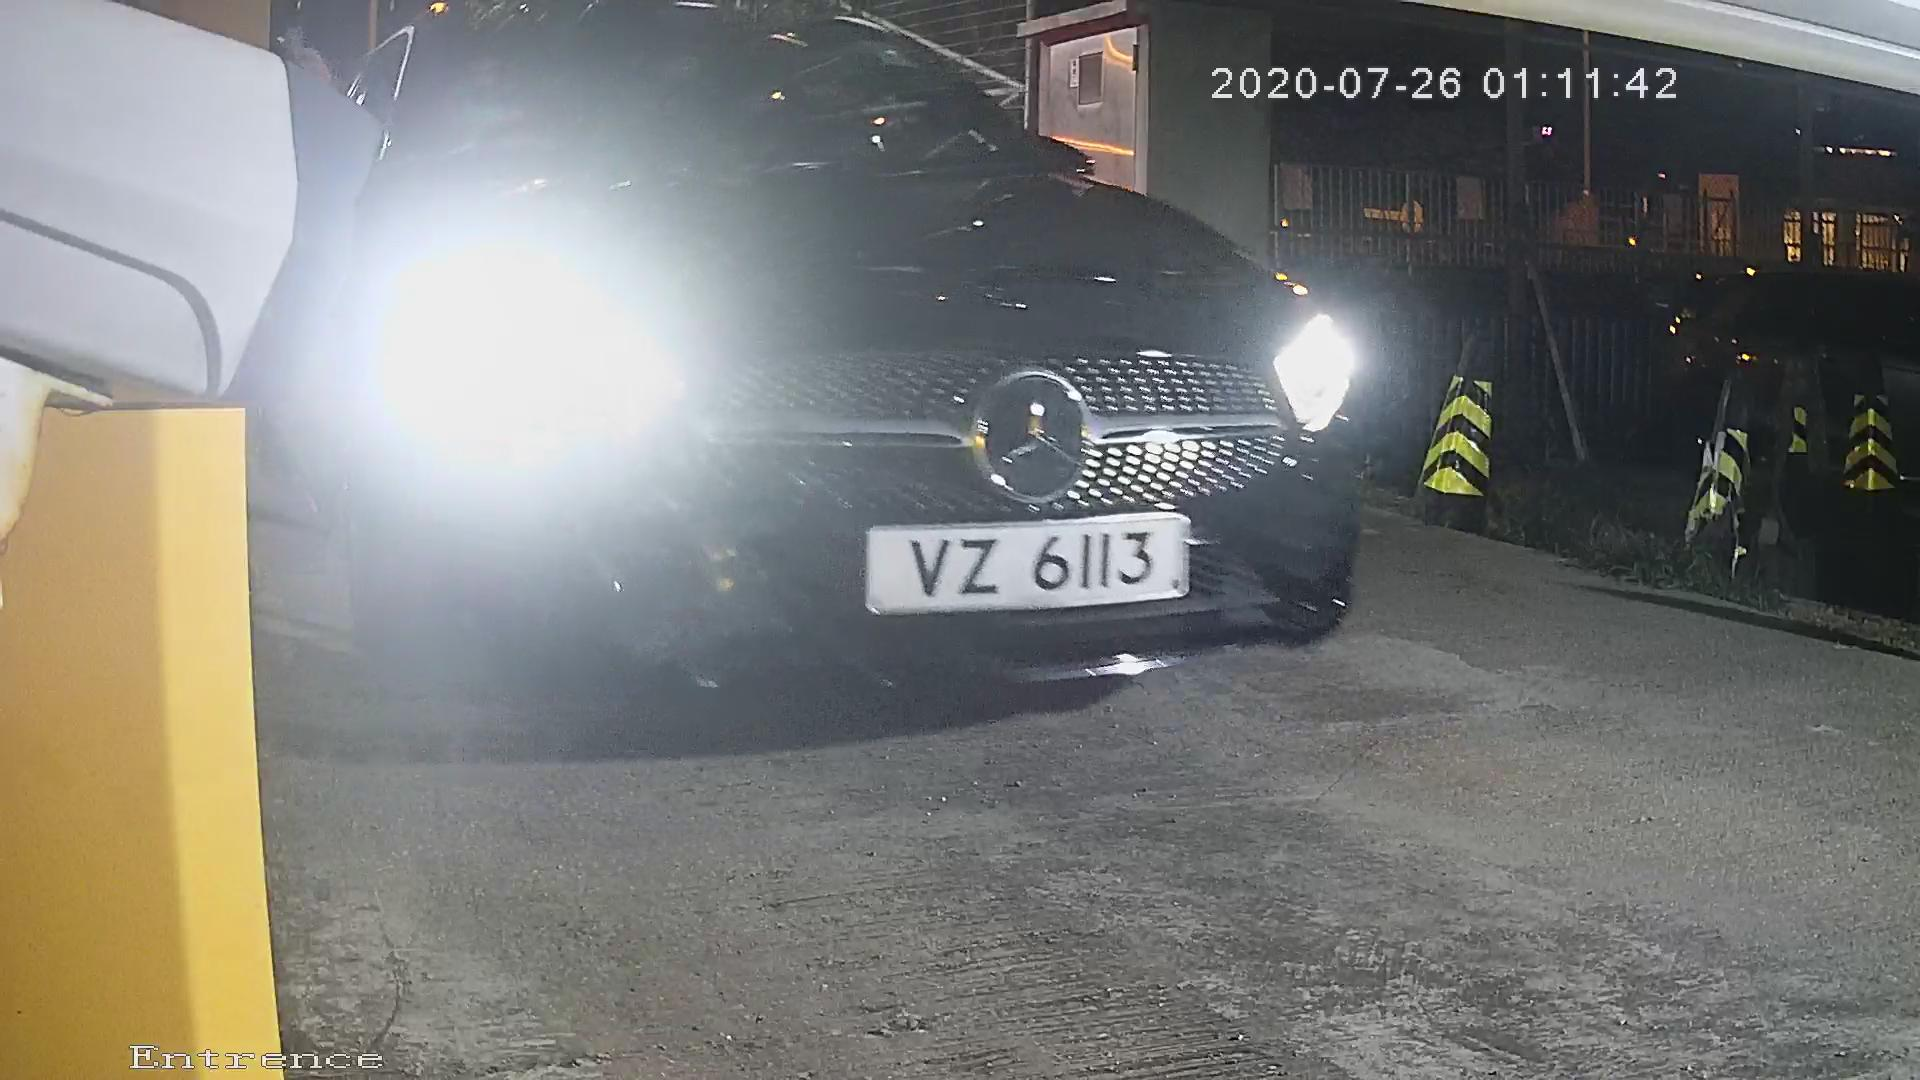License Plate: (823, 502, 1209, 622)
